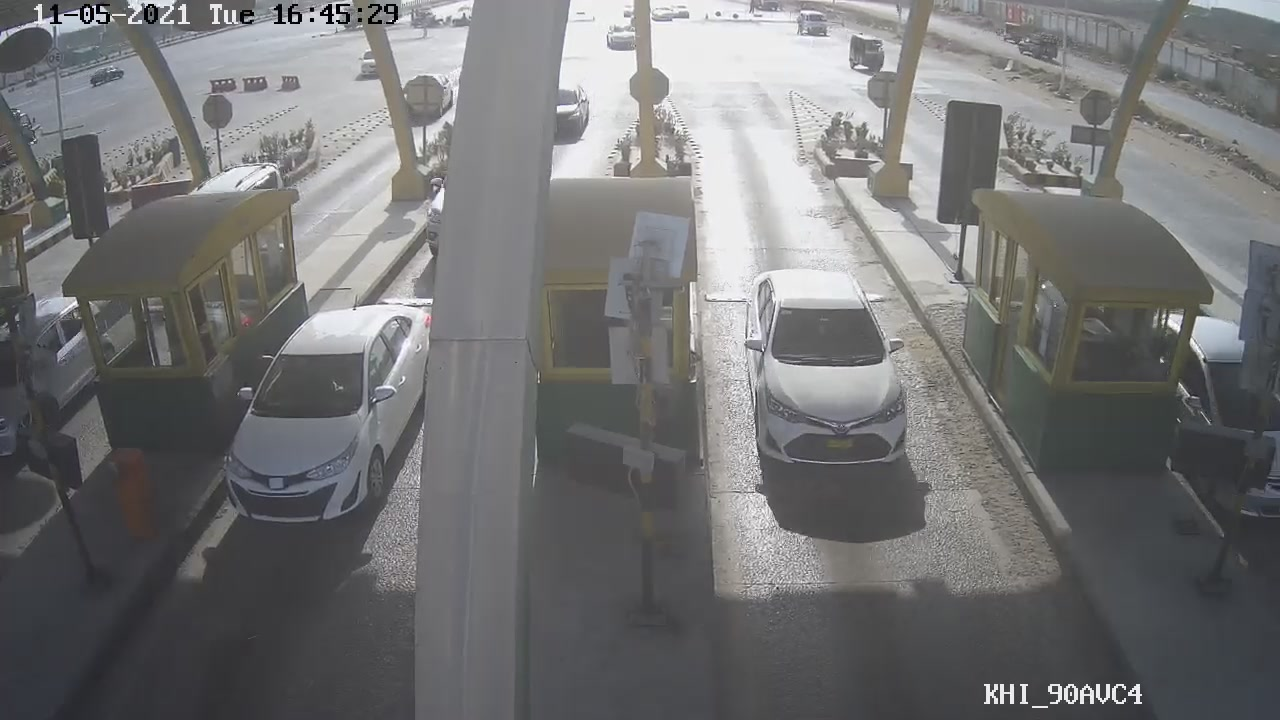F1: (737, 264, 913, 468)
